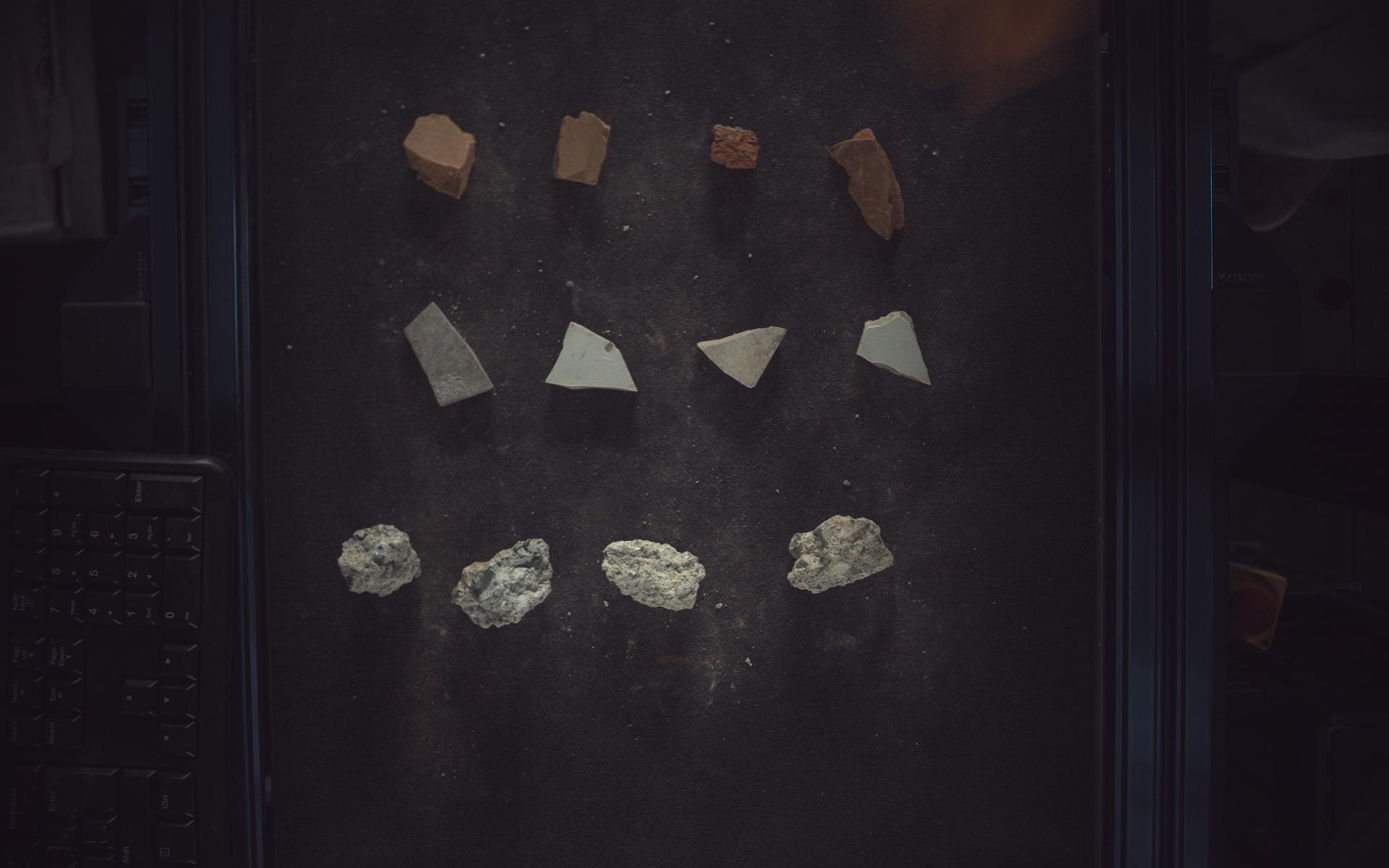brick: (831, 127, 906, 239), (404, 113, 475, 198), (553, 111, 611, 184), (712, 124, 760, 169)
concrete: (453, 540, 553, 629), (789, 516, 895, 595), (603, 540, 706, 611), (338, 524, 420, 597)
tile: (404, 302, 493, 407), (546, 322, 637, 392), (859, 311, 933, 384), (698, 328, 787, 388)
